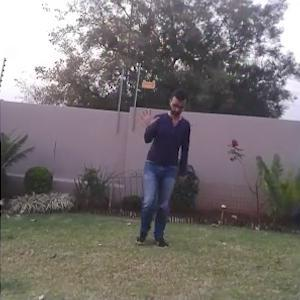follow_hand: (136, 105, 160, 129)
